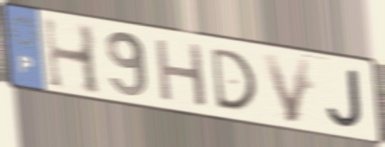9: (104, 29, 150, 99)
D: (208, 45, 260, 113)
H: (40, 14, 104, 98), (153, 35, 210, 110)
J: (324, 66, 365, 131)
V: (259, 50, 314, 126)
